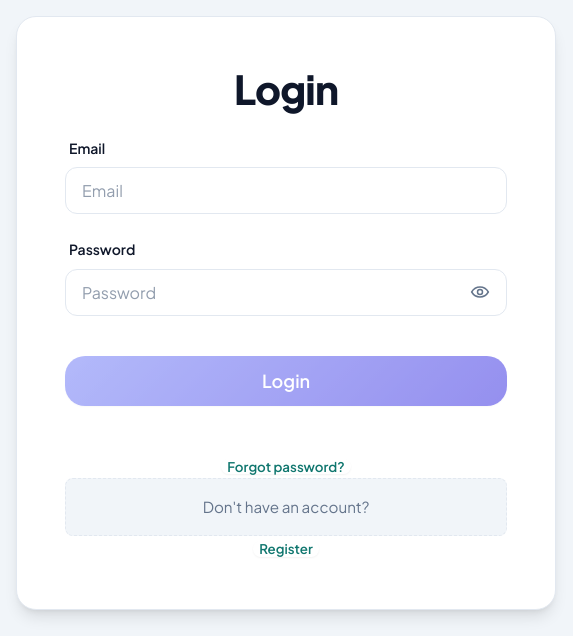
Test: LoginPage › enables the login button when credentials are valid
Type "test@example.com" into the field labelled "Email" at (286, 191), box [66, 168, 506, 213]
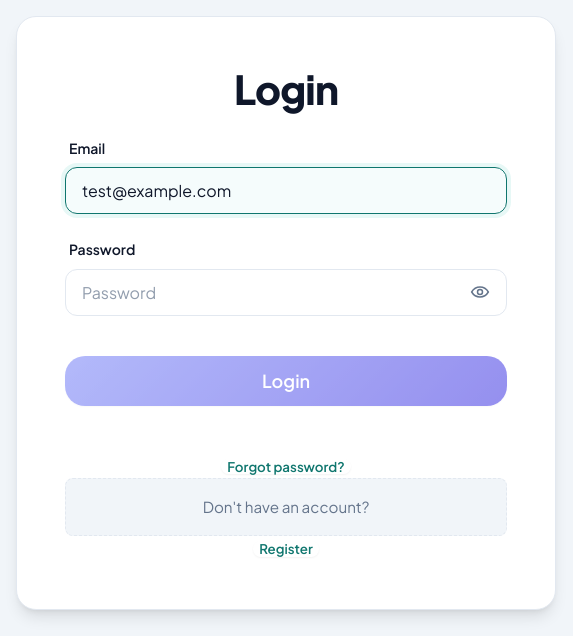
Type "password123" into the password field labelled "Password" at (286, 292), box [66, 270, 506, 315]
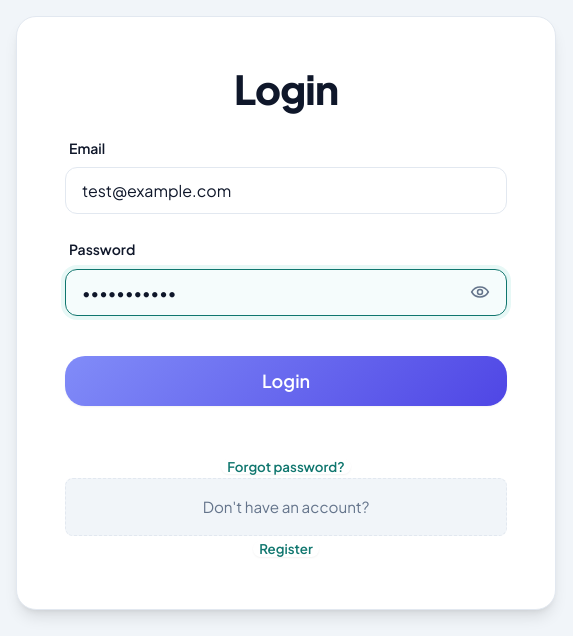
Expected: the button "Login" is enabled, [65, 356, 507, 406]
